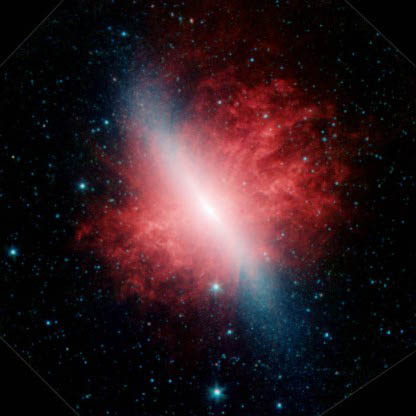Messier 82: (86, 22, 342, 354)
